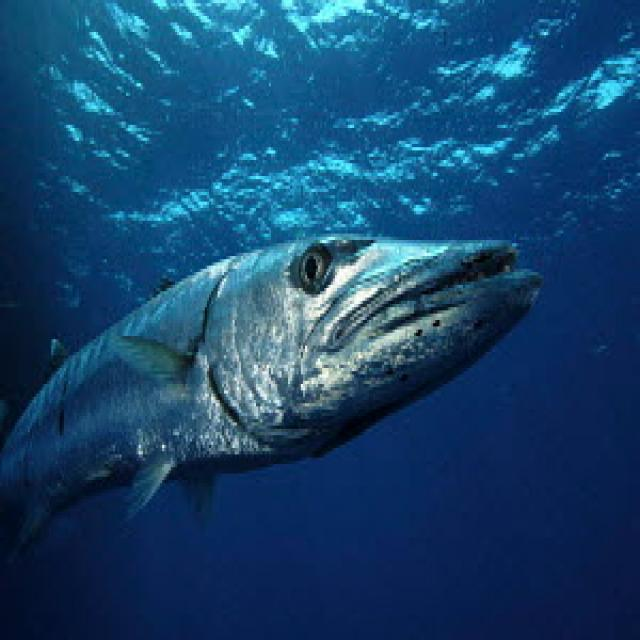Barracuda: (2, 227, 544, 554)
